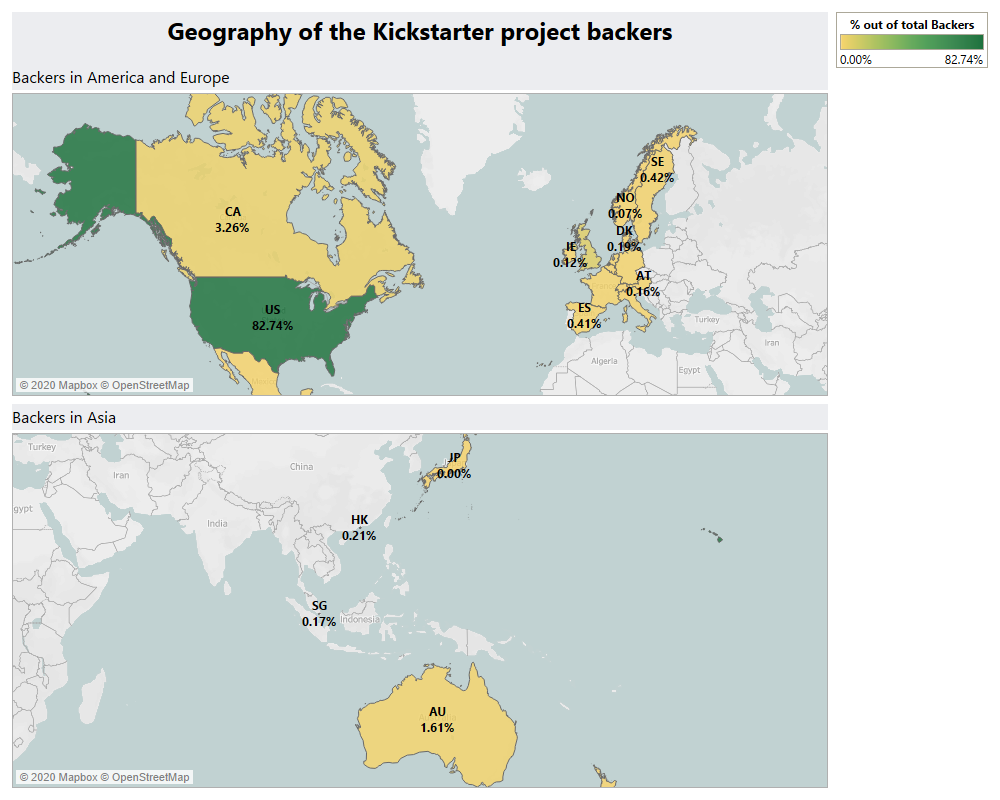

This screenshot's page, from the dashboard's own definition file:
{"tool":"tableau","page":{"name":"Map","canvas":[1000,800],"ordinal":0},"visuals":[{"type":"worksheet","box":[0,0,1000,800]},{"type":"worksheet","param":"horz","box":[8,8,984,784]},{"type":"worksheet","box":[8,8,824,784]},{"type":"worksheet","title":"backers_map","mark":"Multipolygon","box":[8,8,824,392]},{"type":"worksheet","param":"vert","box":[832,8,160,784]},{"type":"worksheet","title":"backers_map","mark":"Multipolygon","param":"[federated.1smwlxm14xw573196j06v1k44rwp].[pcto:sum:backers:qk]","box":[832,8,160,65]},{"type":"worksheet","title":"backers_map (2)","mark":"Multipolygon","box":[8,400,824,392]}]}

Visuals, with their boxes in screenshot pixels (x1, y1, x2, y2), scaled from the page's 1000x800 canvas onto the 1000x800 screenshot:
worksheet: (0, 0, 999, 799)
worksheet: (8, 8, 992, 792)
worksheet: (8, 8, 832, 792)
"backers_map" worksheet (Multipolygon marks): (8, 8, 832, 400)
worksheet: (832, 8, 992, 792)
"backers_map" worksheet (Multipolygon marks): (832, 8, 992, 73)
"backers_map (2)" worksheet (Multipolygon marks): (8, 400, 832, 792)
